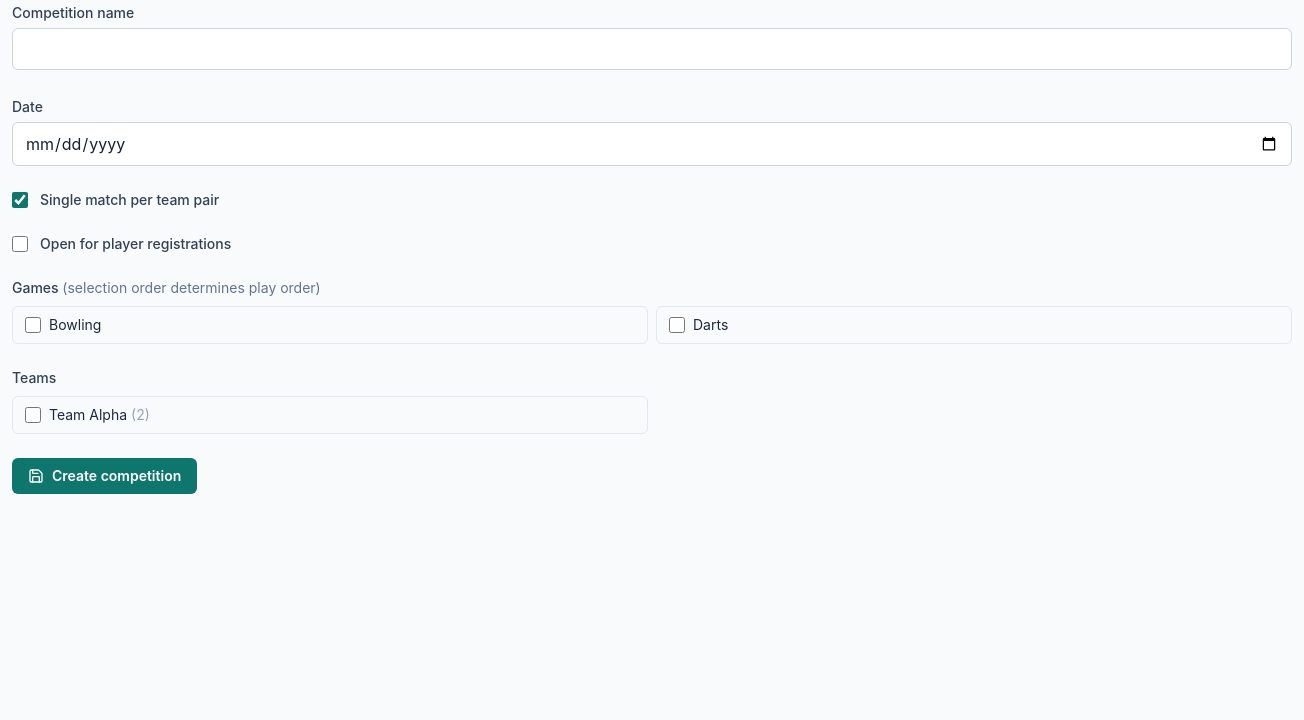
Scenario: CompetitionForm › shows validation error when name is missing
The width and height of the screenshot is (1304, 720).
Click the button "Create competition": (105, 476) [12,458,197,494]
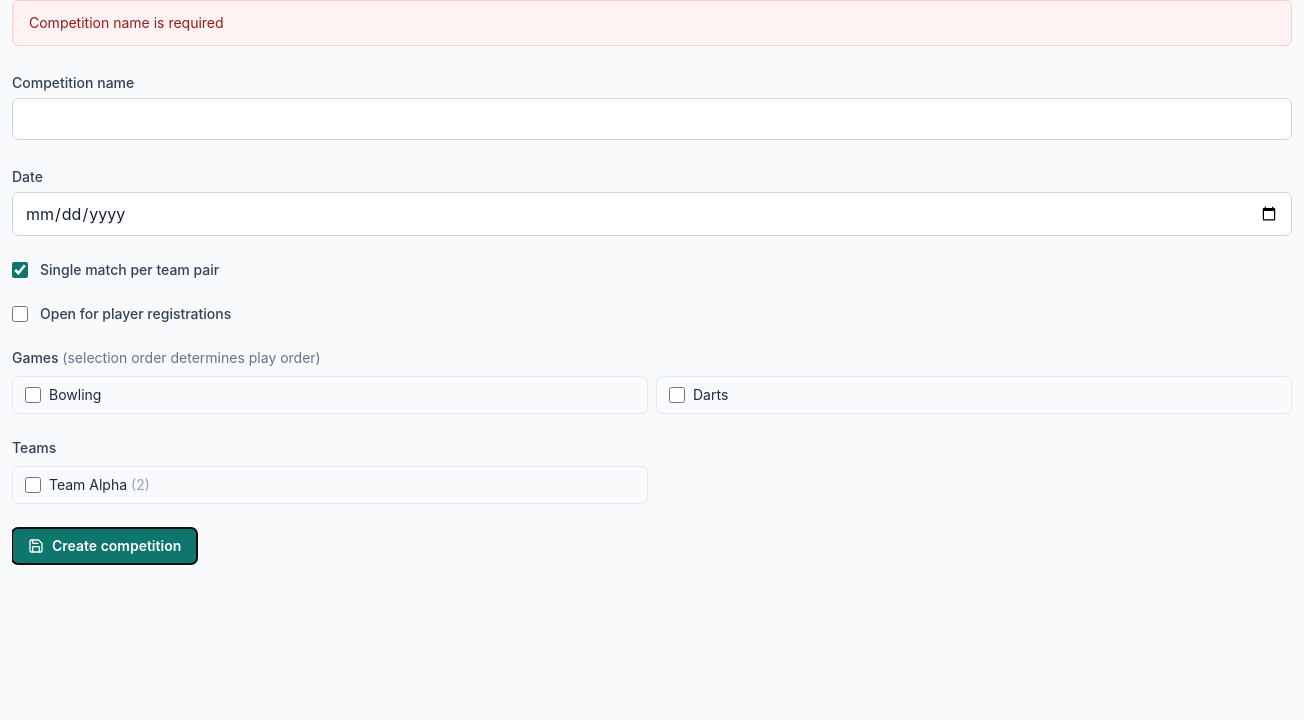
Expected: the message reads "Competition name is required", [29,14,224,31]
